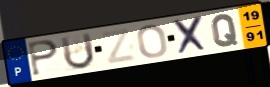O: (136, 23, 170, 59)
P: (27, 39, 60, 78)
Q: (210, 13, 240, 49)
U: (58, 31, 96, 72)
X: (171, 14, 210, 57)
Z: (99, 26, 138, 66)
